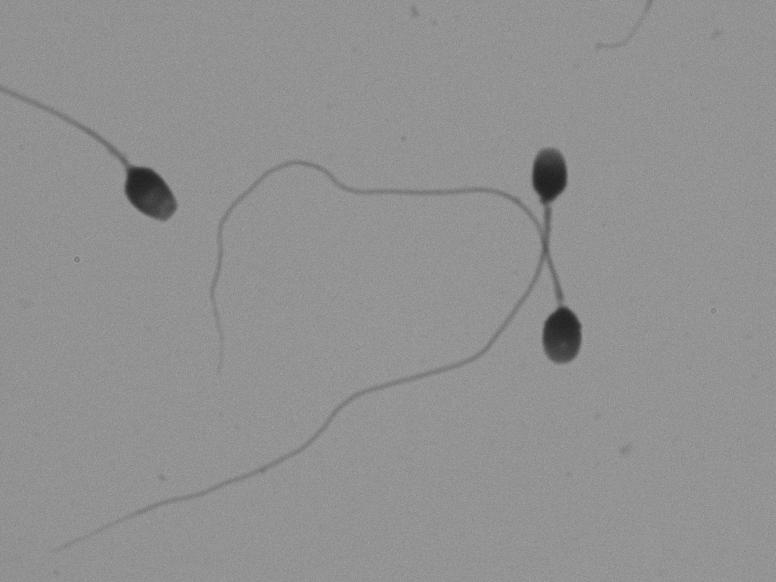Abnormal: (30, 59, 191, 252)
Normal: (193, 142, 591, 380)
